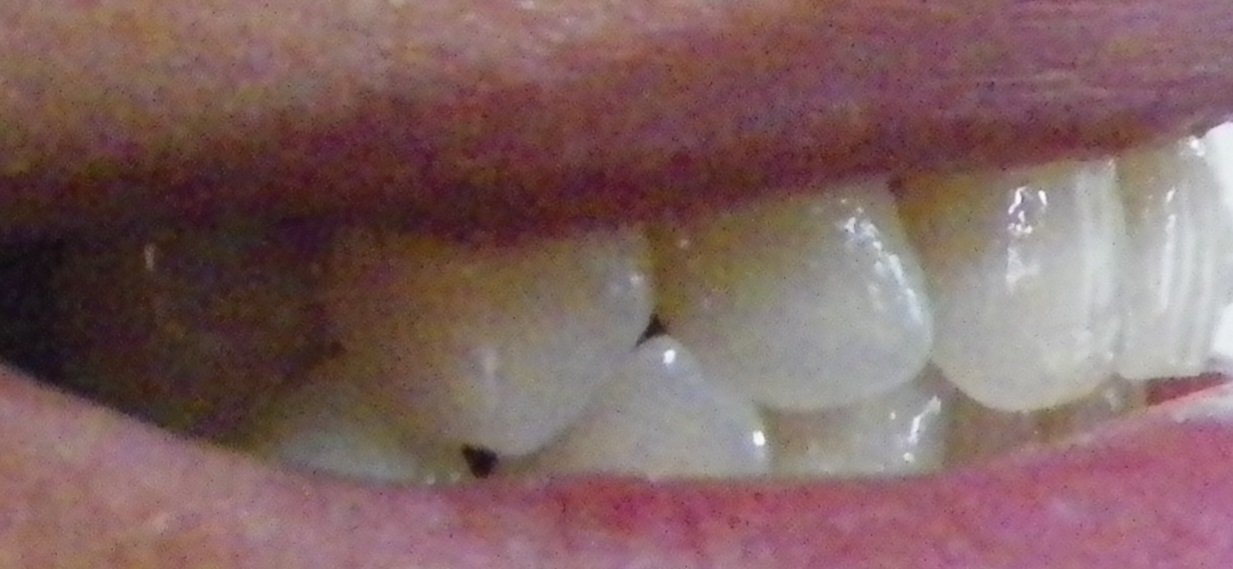boca: (78, 118, 1230, 488)
